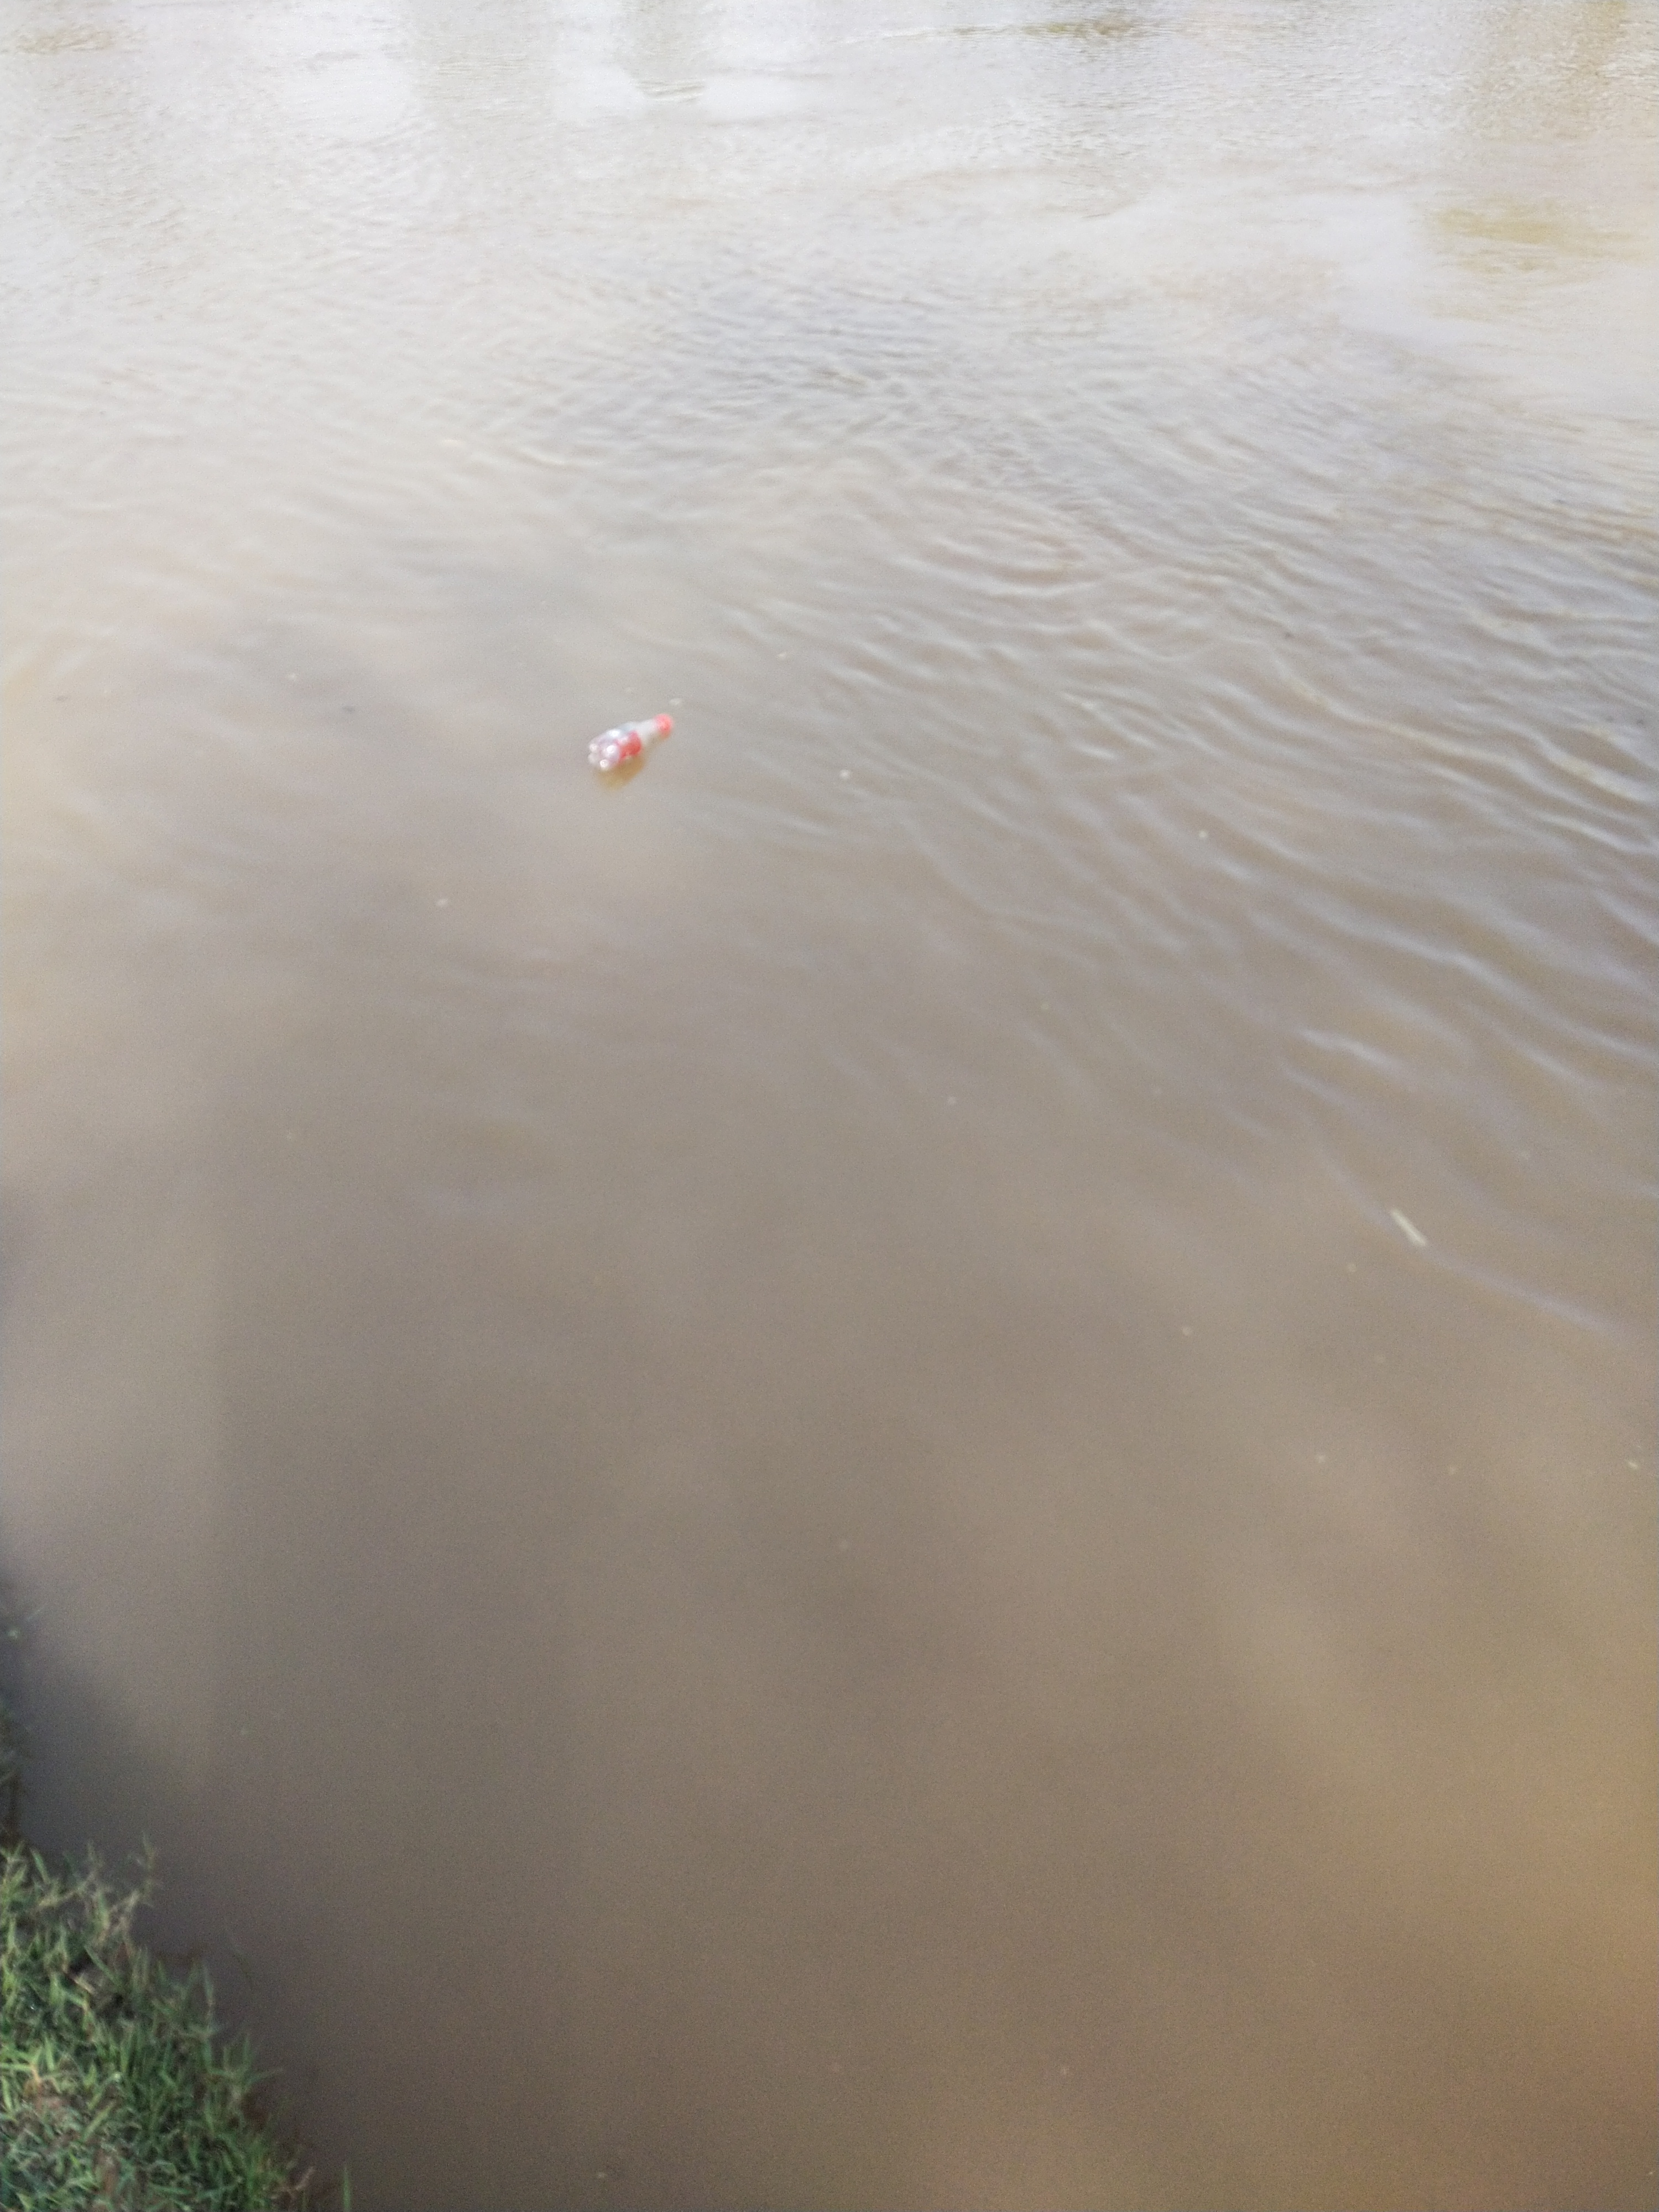Plastic Bottle: (587, 712, 667, 777)
